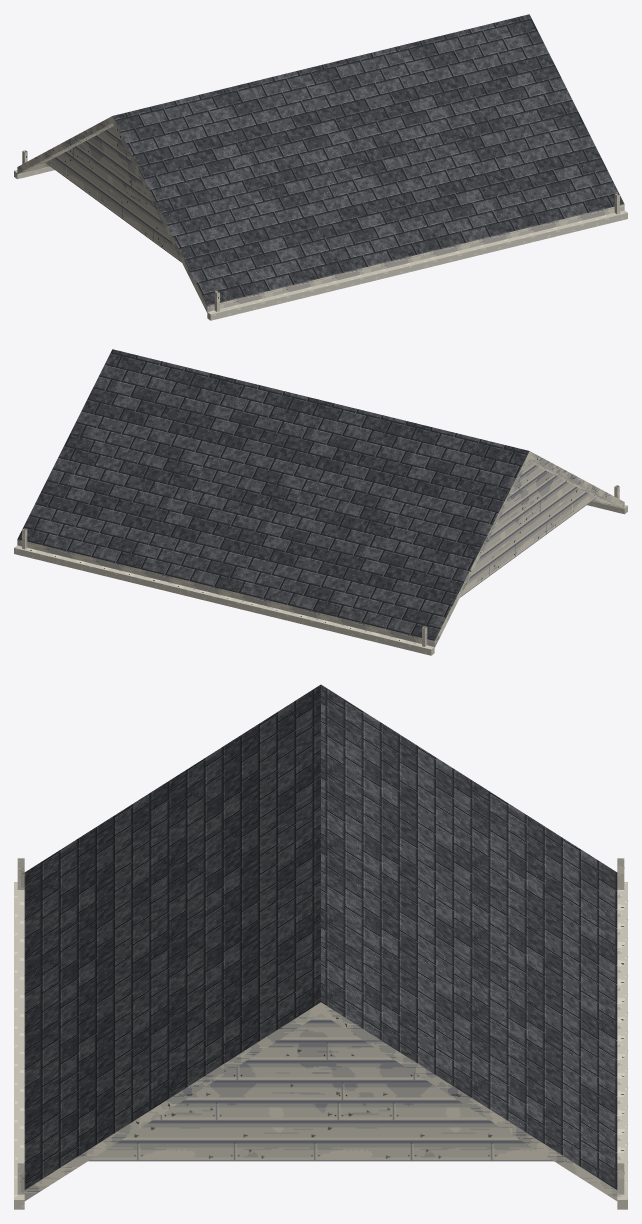
The model's file is RES_Ext_Roof_Gable_8x6.obj.
3 renders of one model, top to bottom at view 1: azimuth 30°, elevation 25°; view 2: azimuth 150°, elevation 25°; view 3: azimuth 270°, elevation 25°, orthographic. The views are drawn at different scales.
Visible parts, largest first — view 1: RES_Ext_Roof_Gable_8x6_Mesh_M_Arch_RoofShinglesDarkGray, RES_Ext_Roof_Gable_8x6_Mesh_M_Arch_SidingWhite, RES_Ext_Roof_Gable_8x6_Mesh_M_Town_PaintWhite, RES_Ext_Roof_Gable_8x6_Mesh_M_Arch_TrimPainted; view 2: RES_Ext_Roof_Gable_8x6_Mesh_M_Arch_RoofShinglesDarkGray, RES_Ext_Roof_Gable_8x6_Mesh_M_Arch_SidingWhite, RES_Ext_Roof_Gable_8x6_Mesh_M_Town_PaintWhite, RES_Ext_Roof_Gable_8x6_Mesh_M_Arch_TrimPainted; view 3: RES_Ext_Roof_Gable_8x6_Mesh_M_Arch_RoofShinglesDarkGray, RES_Ext_Roof_Gable_8x6_Mesh_M_Arch_SidingWhite, RES_Ext_Roof_Gable_8x6_Mesh_M_Town_PaintWhite, RES_Ext_Roof_Gable_8x6_Mesh_M_Arch_TrimPainted.
Part boxes in pixels (bbox=[...]): RES_Ext_Roof_Gable_8x6_Mesh_M_Arch_RoofShinglesDarkGray: bbox=[112, 14, 624, 305]; RES_Ext_Roof_Gable_8x6_Mesh_M_Arch_SidingWhite: bbox=[45, 126, 181, 262]; RES_Ext_Roof_Gable_8x6_Mesh_M_Town_PaintWhite: bbox=[14, 150, 627, 320]; RES_Ext_Roof_Gable_8x6_Mesh_M_Arch_TrimPainted: bbox=[17, 116, 624, 312]; RES_Ext_Roof_Gable_8x6_Mesh_M_Arch_RoofShinglesDarkGray: bbox=[17, 349, 529, 640]; RES_Ext_Roof_Gable_8x6_Mesh_M_Arch_SidingWhite: bbox=[460, 461, 596, 597]; RES_Ext_Roof_Gable_8x6_Mesh_M_Town_PaintWhite: bbox=[14, 485, 627, 655]; RES_Ext_Roof_Gable_8x6_Mesh_M_Arch_TrimPainted: bbox=[17, 451, 624, 647]; RES_Ext_Roof_Gable_8x6_Mesh_M_Arch_RoofShinglesDarkGray: bbox=[24, 684, 617, 1189]; RES_Ext_Roof_Gable_8x6_Mesh_M_Arch_SidingWhite: bbox=[88, 1013, 553, 1161]; RES_Ext_Roof_Gable_8x6_Mesh_M_Town_PaintWhite: bbox=[14, 858, 627, 1209]; RES_Ext_Roof_Gable_8x6_Mesh_M_Arch_TrimPainted: bbox=[24, 1002, 617, 1200].
Size of the model in its own units: 8.5 by 2.59 by 6.94.
4 materials, 4 textured.
